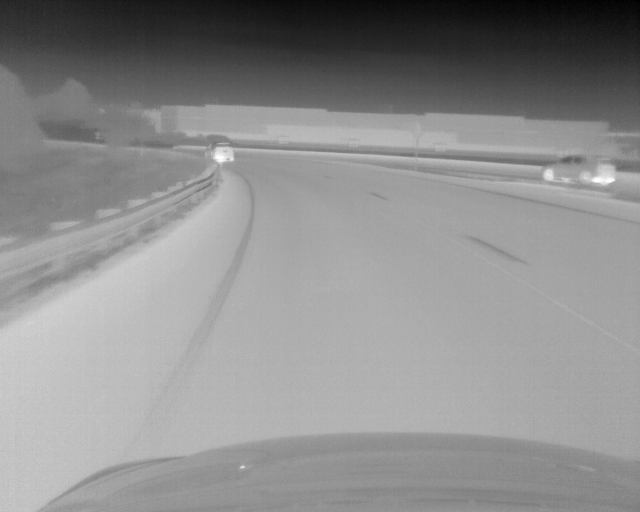car: (539, 154, 617, 186), (202, 140, 234, 163)
